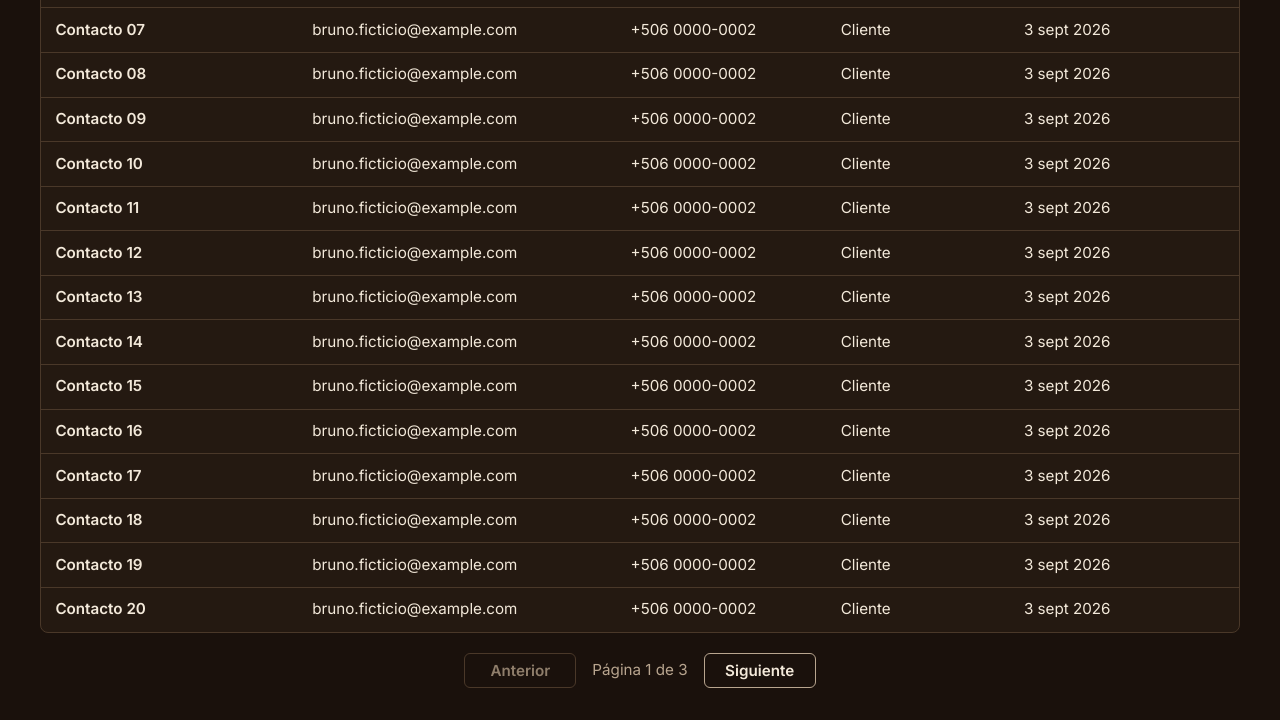
Test: HU-207 Consultar la ficha de un contacto › criterio 2: "Volver a contactos" regresa a la lista en la misma página
(page scrolled)
Click the button "Siguiente".
click(760, 670)  # box [704, 652, 816, 688]
(page scrolled)
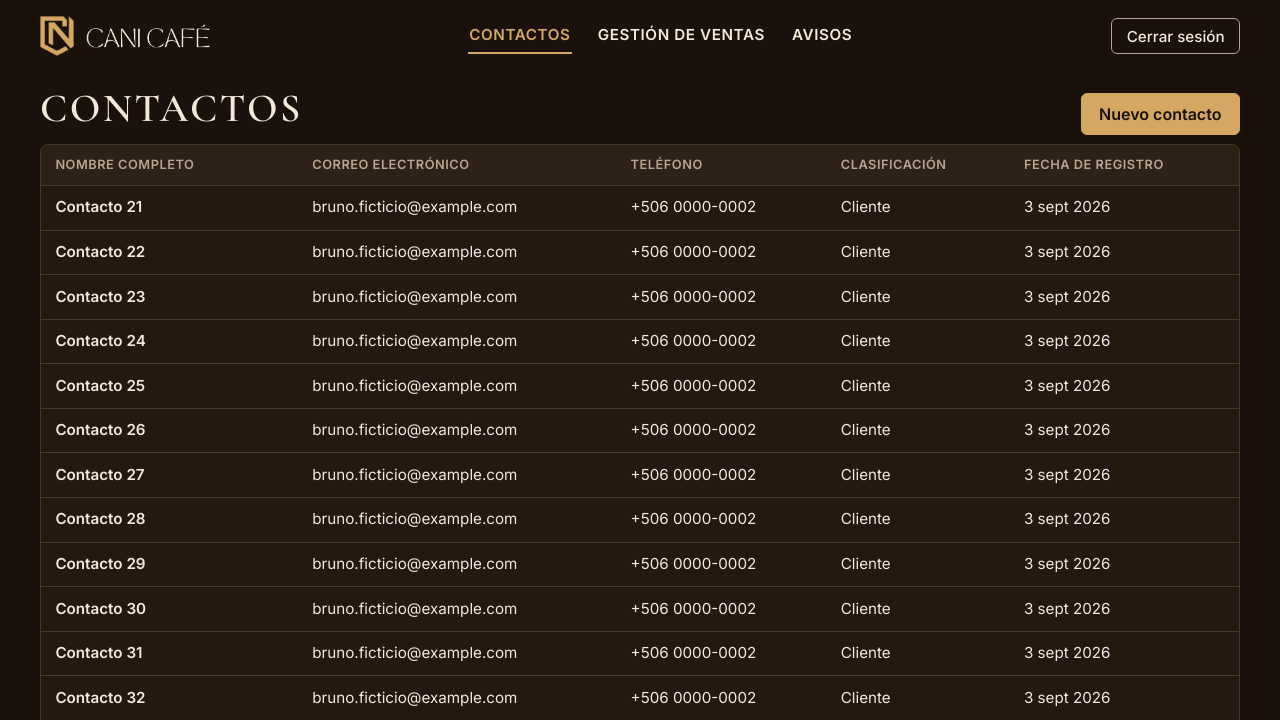
Click the link "Contacto 23".
click(100, 296)  # box [55, 286, 146, 306]
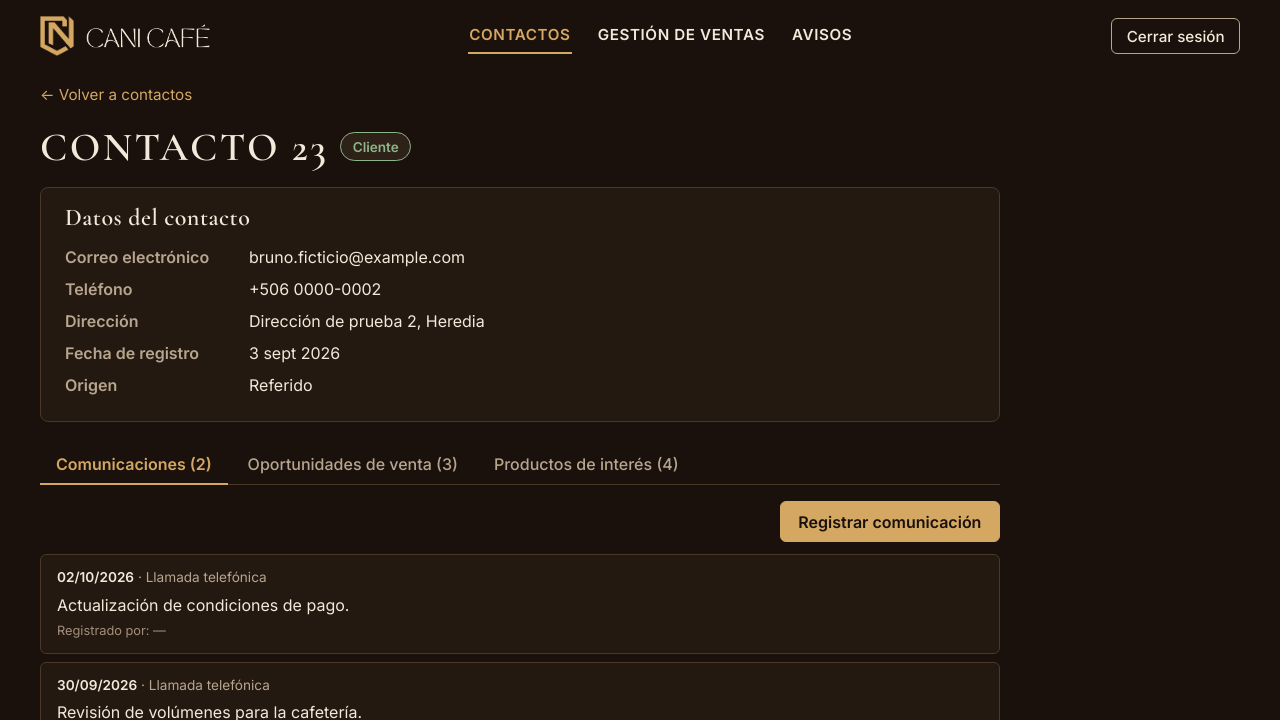
Expected: the heading "Contacto 23" is shown, [40, 123, 328, 171]
Click the link "← Volver a contactos".
click(116, 94)  # box [40, 85, 192, 104]
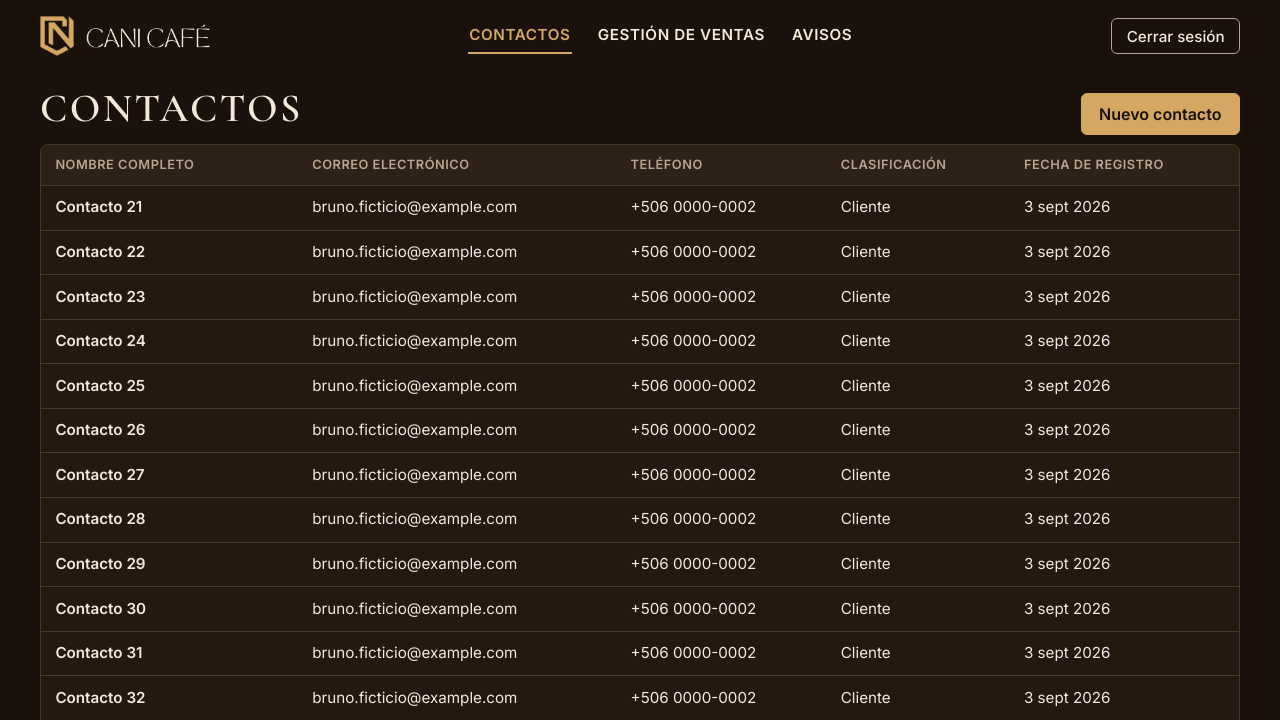
Expected: the cell "Contacto 21" is shown, [41, 186, 298, 230]
